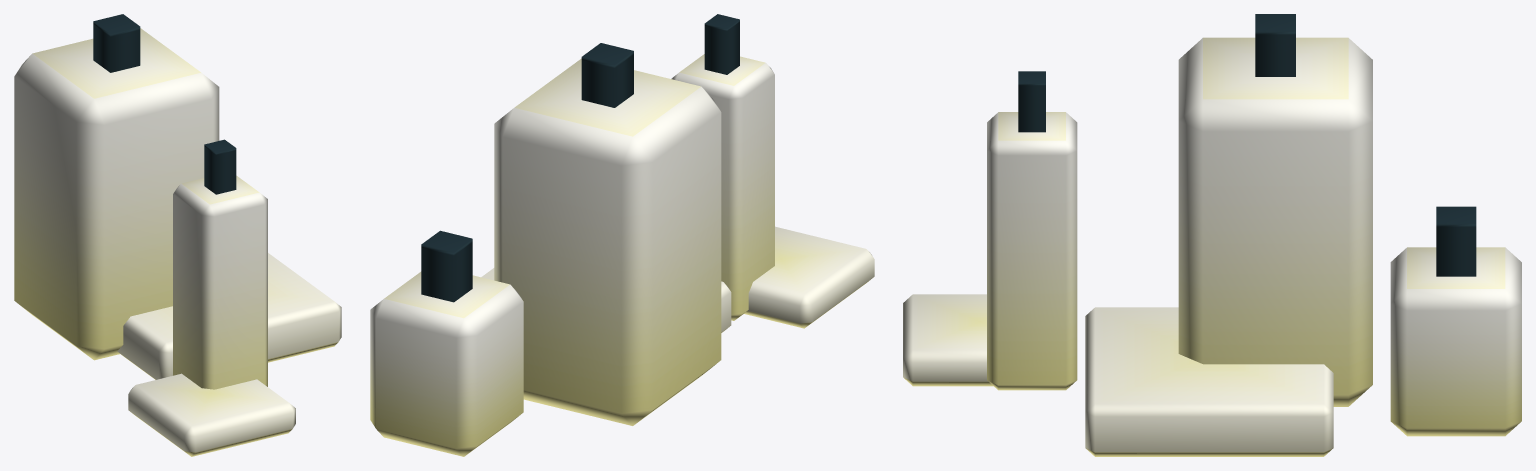
Rendered from candle_arrangement_5.fbx.
The picture shows the model from 3 angles, left to right: view 1: azimuth 30°, elevation 25°; view 2: azimuth 150°, elevation 25°; view 3: azimuth 270°, elevation 25°; orthographic projection. The views are drawn at different scales.
Visible parts, largest first — view 1: candle_arrangement_5; view 2: candle_arrangement_5; view 3: candle_arrangement_5.
Part boxes in pixels (x1,y1,x2,y2): candle_arrangement_5: (14, 14, 341, 456); candle_arrangement_5: (370, 14, 874, 456); candle_arrangement_5: (903, 14, 1521, 456).
Size of the model in its own units: 65.43 by 80.1 by 127.
Materials: 1 (1 with a texture image).
